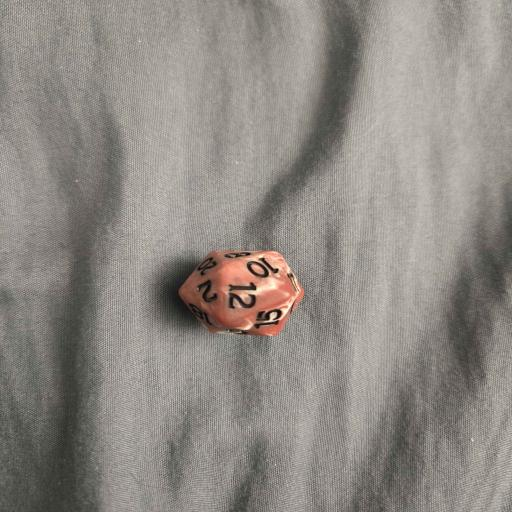twenty sided dice: (179, 250, 304, 336)
